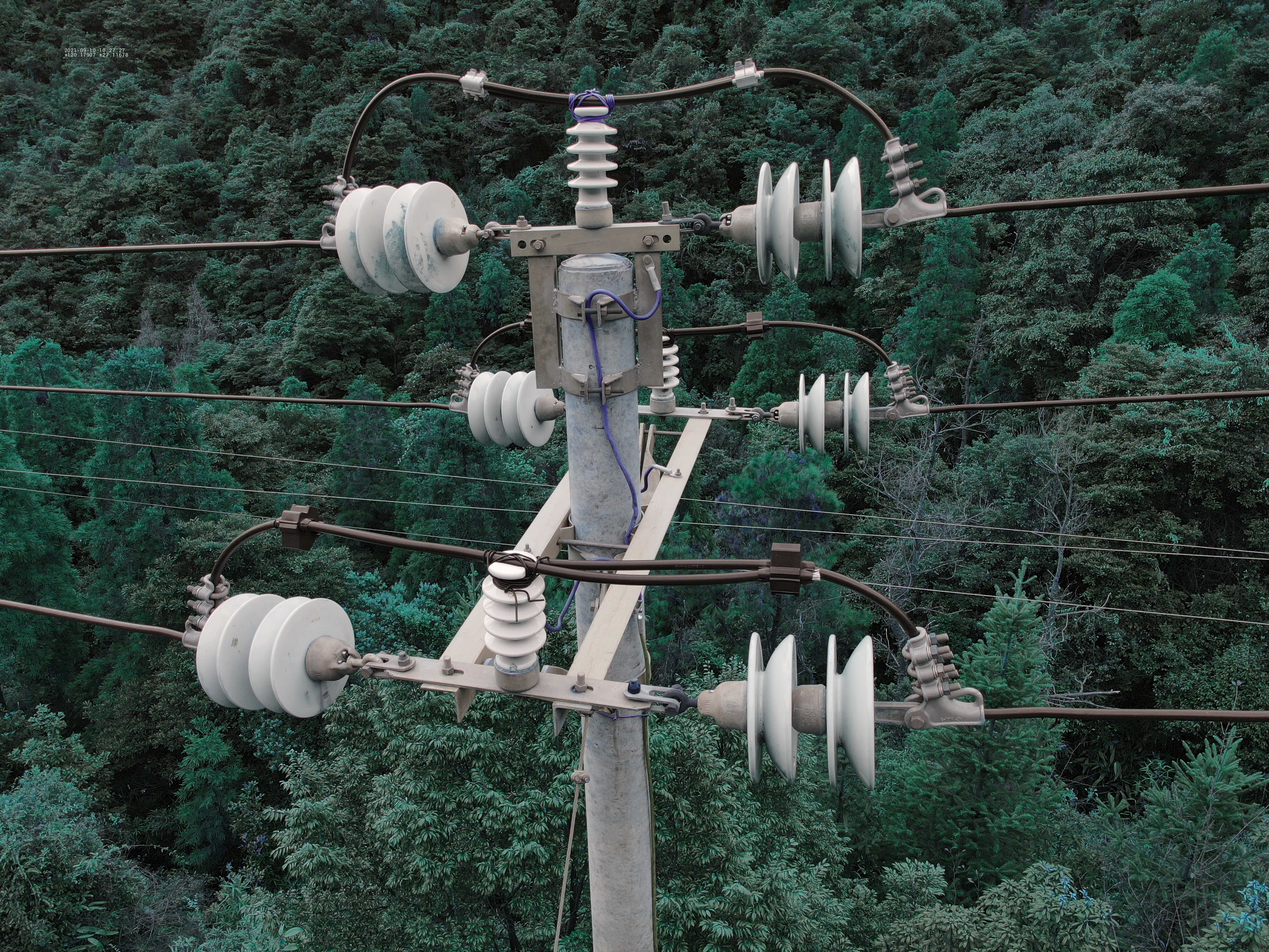severe_soiling_no_discharge_whole: (333, 177, 481, 297), (646, 333, 682, 414)
